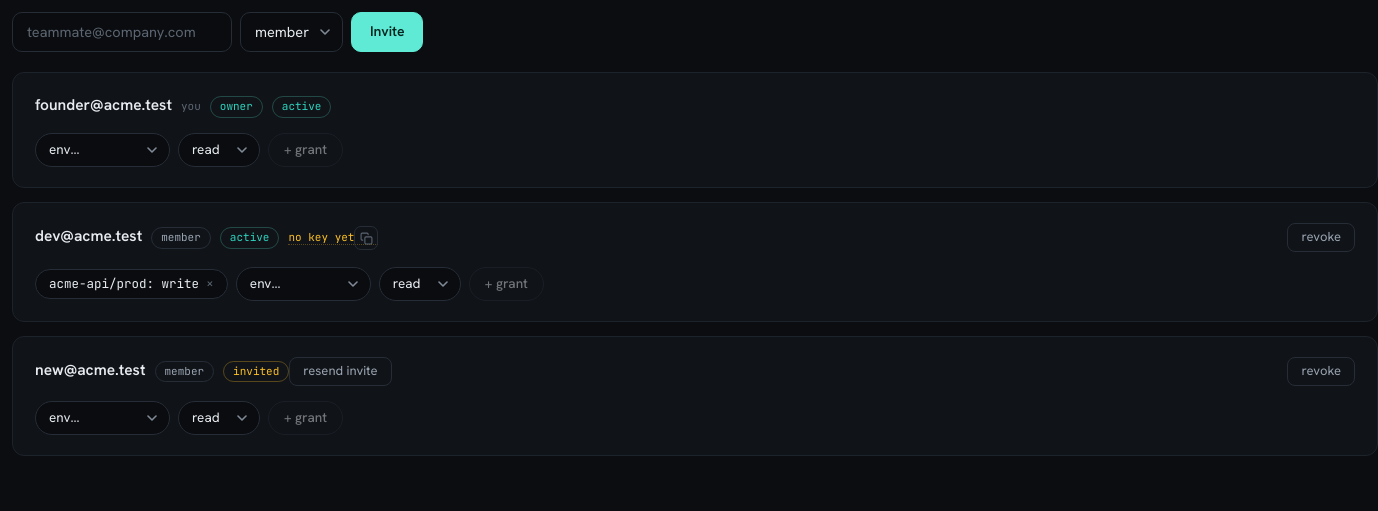
join codes (#66) › inviting shows the one-time join command with a copy button
The image size is (1378, 511).
Type "mate@acme.test" into the field named "invite email".
click(122, 32); type("mate@acme.test")  # box [12,12,232,52]
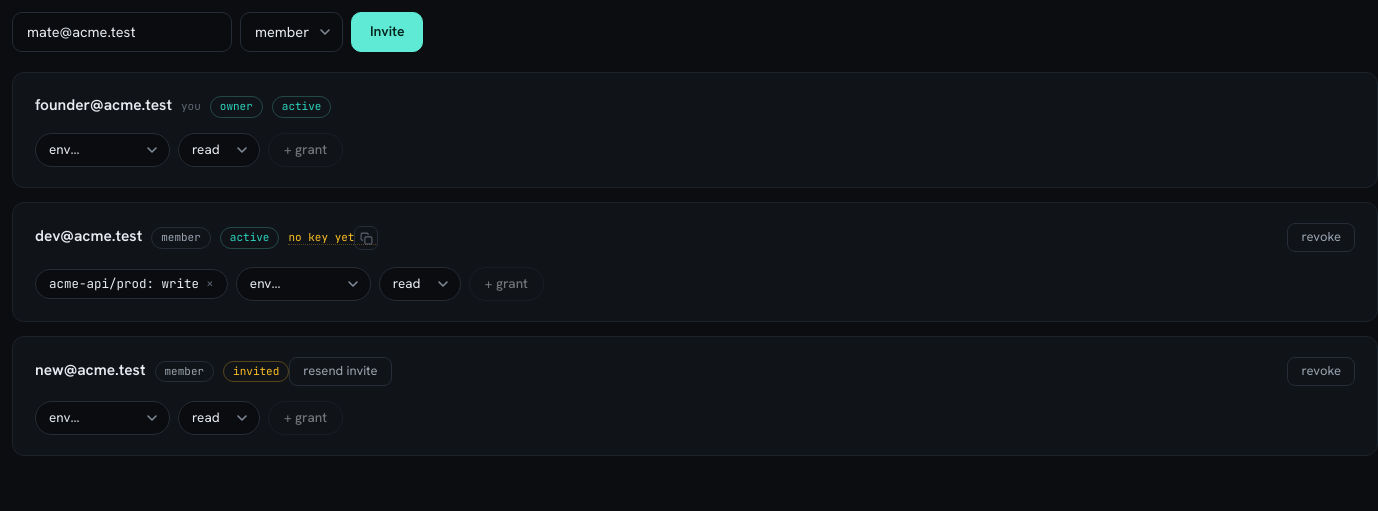
Submit the form named "invite email", box [12,12,424,52]
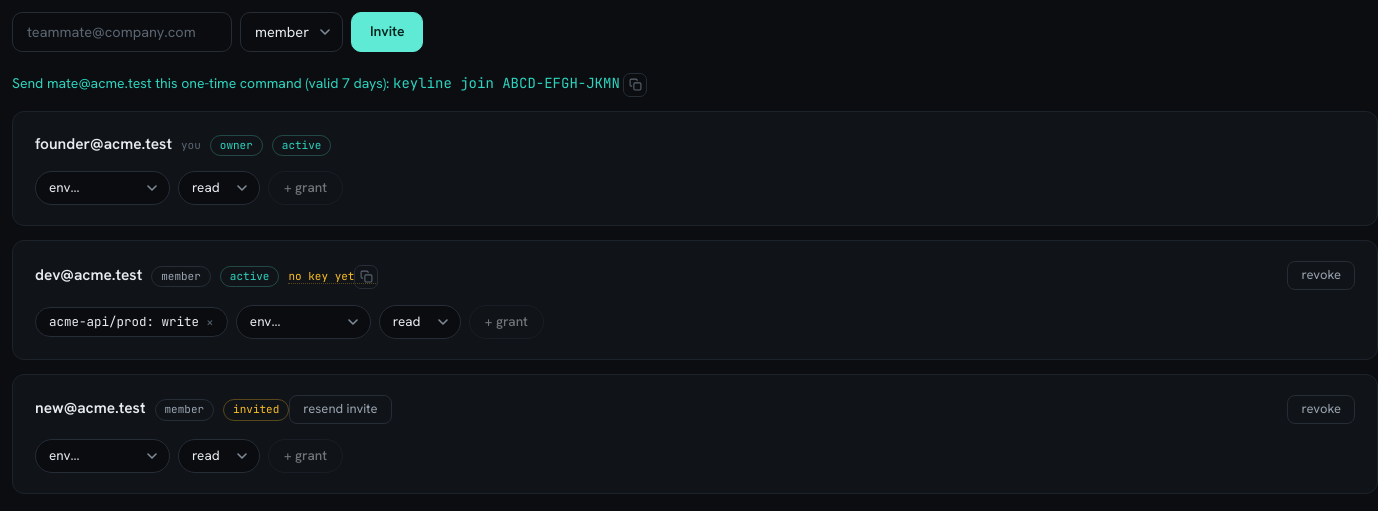
Expected: the text "keyline join ABCD-EFGH-JKMN" is shown, [393,74,620,92]
Expected: the button named "copy join command for mate@acme.test" is shown, [624,72,648,96]
